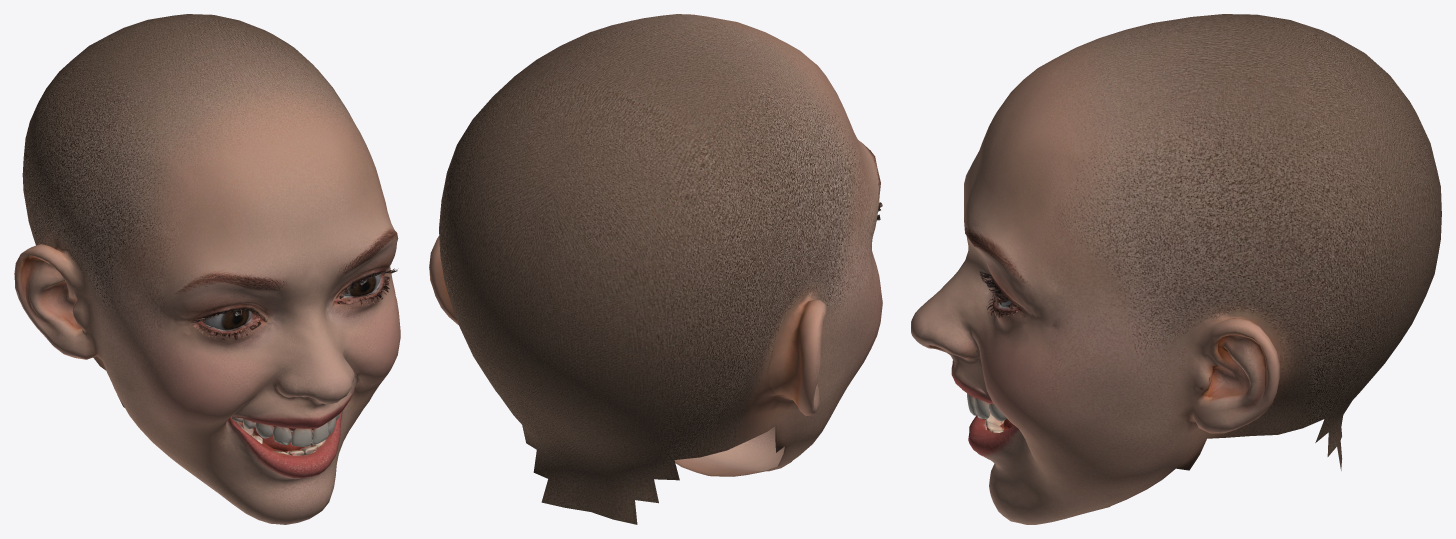
Rendered from bld.glb.
The picture shows the model from 3 angles, left to right: view 1: azimuth 30°, elevation 25°; view 2: azimuth 150°, elevation 25°; view 3: azimuth 270°, elevation 25°; orthographic projection. The views are drawn at different scales.
Parts seen in each view (by area): view 1: tripo_node_a8f92cc0-fc6e-4565-aa30-57d5d6797c25; view 2: tripo_node_a8f92cc0-fc6e-4565-aa30-57d5d6797c25; view 3: tripo_node_a8f92cc0-fc6e-4565-aa30-57d5d6797c25.
Part boxes in pixels (bbox=[...]): tripo_node_a8f92cc0-fc6e-4565-aa30-57d5d6797c25: bbox=[14, 14, 400, 524]; tripo_node_a8f92cc0-fc6e-4565-aa30-57d5d6797c25: bbox=[429, 14, 882, 524]; tripo_node_a8f92cc0-fc6e-4565-aa30-57d5d6797c25: bbox=[911, 14, 1441, 524].
Size of the model in its own units: 0.8262 by 0.998 by 0.998.
Materials: 1 (1 with a texture image).
